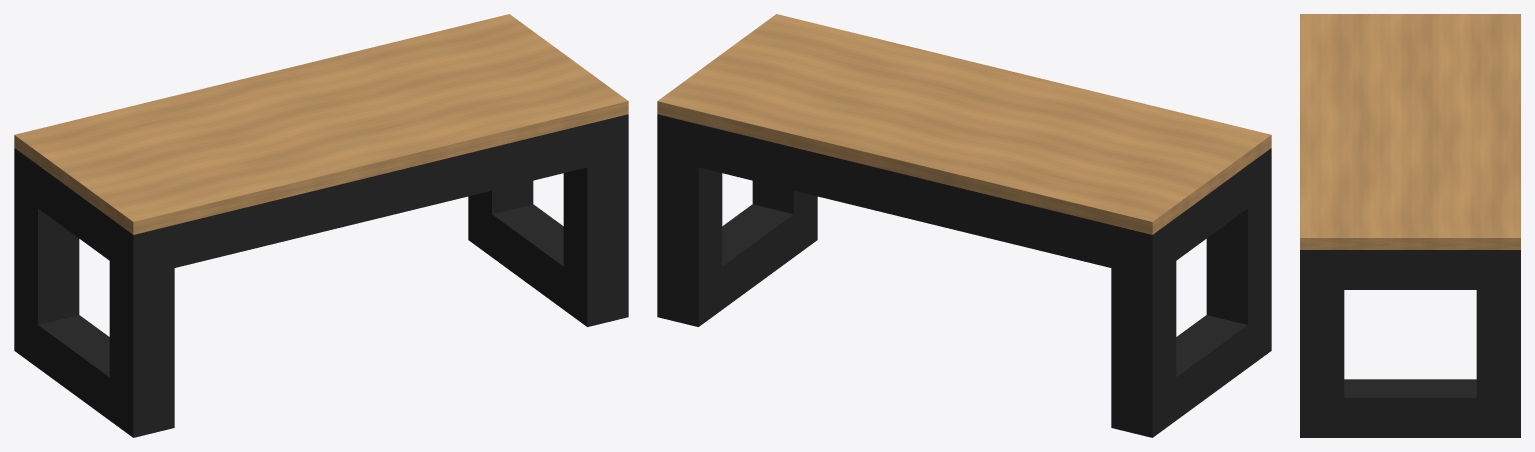
The model's file is mesa-living-nord-miel-negro-10cm.glb.
3 renders of one model, left to right at view 1: azimuth 30°, elevation 25°; view 2: azimuth 150°, elevation 25°; view 3: azimuth 270°, elevation 25°, orthographic. The views are drawn at different scales.
Parts seen in each view (by area): view 1: Tapa de madera maciza 120 x 50 cm, Pata recta de hierro 10 x 10 cm (×4), Larguero longitudinal superior recto, Travesaño inferior recto (×2), Travesaño superior recto; view 2: Tapa de madera maciza 120 x 50 cm, Pata recta de hierro 10 x 10 cm (×4), Larguero longitudinal superior recto, Travesaño inferior recto (×2), Travesaño superior recto; view 3: Tapa de madera maciza 120 x 50 cm, Pata recta de hierro 10 x 10 cm (×2), Travesaño inferior recto, Travesaño superior recto.
Boxes of the visible parts, box(x1,y1,x2,y2) form: Tapa de madera maciza 120 x 50 cm: box(14, 14, 628, 234); Pata recta de hierro 10 x 10 cm (×4): box(14, 114, 628, 437); Larguero longitudinal superior recto: box(174, 124, 587, 267); Travesaño inferior recto (×2): box(26, 204, 575, 428); Travesaño superior recto: box(26, 158, 121, 269); Tapa de madera maciza 120 x 50 cm: box(657, 14, 1271, 234); Pata recta de hierro 10 x 10 cm (×4): box(657, 114, 1271, 437); Larguero longitudinal superior recto: box(698, 124, 1111, 267); Travesaño inferior recto (×2): box(710, 204, 1247, 428); Travesaño superior recto: box(1164, 165, 1247, 268); Tapa de madera maciza 120 x 50 cm: box(1300, 14, 1520, 249); Pata recta de hierro 10 x 10 cm (×2): box(1300, 250, 1520, 437); Travesaño inferior recto: box(1323, 379, 1497, 437); Travesaño superior recto: box(1322, 250, 1498, 289).
Size of the model in its own units: 1.2 by 0.5 by 0.5.
Materials: 2 (1 with a texture image).
